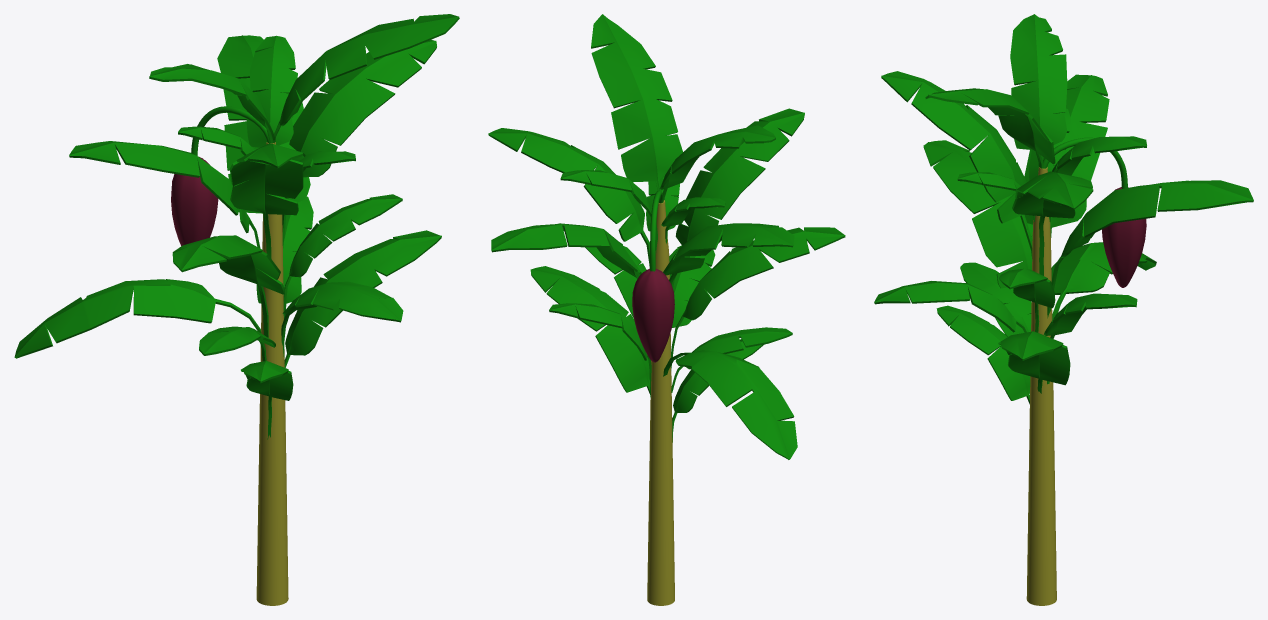
The model's file is BananaTreeFruit.fbx.
3 views of the same model, side by side, from view 1: azimuth 30°, elevation 25°; view 2: azimuth 150°, elevation 25°; view 3: azimuth 270°, elevation 25° (orthographic). The views are drawn at different scales.
Visible parts, largest first — view 1: Leaves, Trunk, Banana; view 2: Leaves, Trunk, Banana; view 3: Leaves, Trunk, Banana.
Boxes of the visible parts, x1,y1,x2,y2 form: Leaves: [14, 14, 459, 439]; Trunk: [256, 142, 288, 605]; Banana: [171, 106, 269, 245]; Leaves: [488, 14, 845, 459]; Trunk: [647, 200, 674, 605]; Banana: [632, 190, 674, 362]; Leaves: [874, 14, 1253, 404]; Trunk: [1026, 167, 1056, 605]; Banana: [1043, 137, 1146, 287].
Size of the model in its own units: 269 by 399 by 244.
